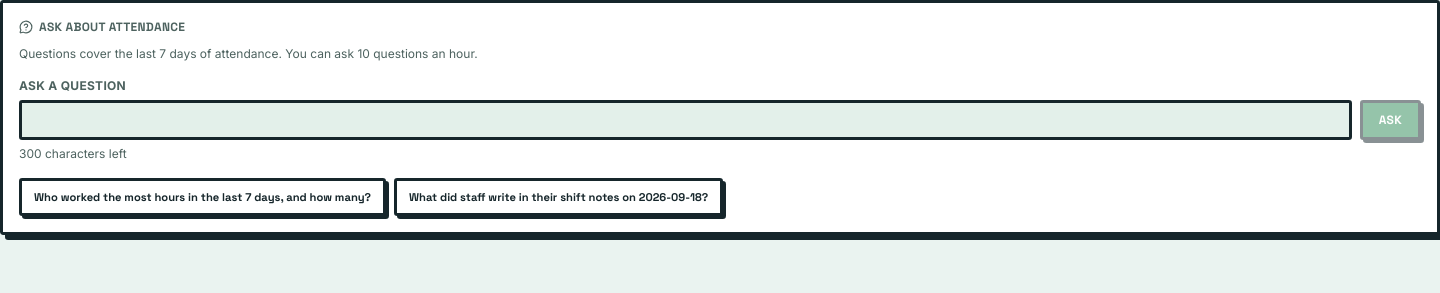
Test: AskCard › shows the unavailable copy when answeredAt is not a date
Click the button "Who worked the most hours in the last 7 days, and how many?": (202, 197) x1=19 y1=178 x2=386 y2=216
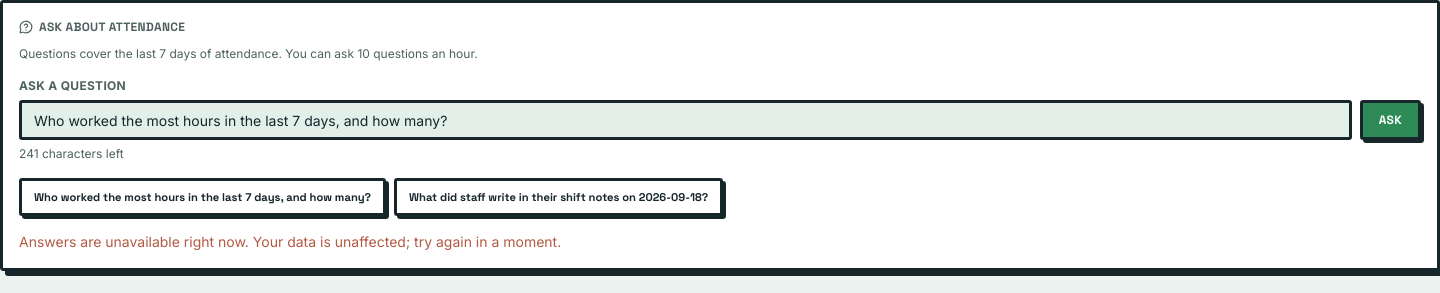
Expected: the message shows "unavailable right now", x1=19 y1=233 x2=561 y2=250
